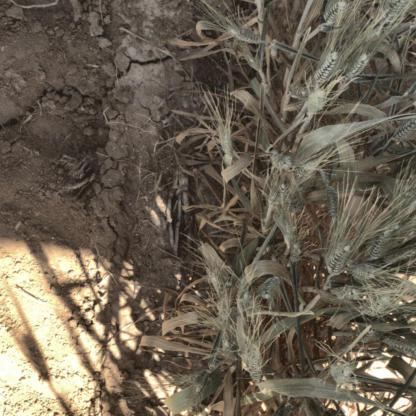whd: (384, 338, 416, 360), (314, 52, 337, 82), (327, 245, 350, 274), (368, 230, 389, 260), (385, 247, 416, 264), (383, 0, 408, 21), (322, 2, 345, 24), (346, 54, 368, 77), (393, 119, 415, 141), (231, 29, 261, 44), (209, 273, 225, 301), (308, 92, 324, 117), (272, 149, 292, 169), (262, 276, 279, 298), (371, 296, 389, 315), (221, 128, 233, 156), (326, 186, 336, 218), (268, 184, 284, 204), (219, 310, 238, 324), (343, 284, 359, 300), (331, 366, 345, 384), (195, 371, 207, 392), (251, 358, 261, 382), (292, 199, 307, 213), (290, 242, 300, 262), (354, 268, 370, 278), (240, 290, 251, 304), (290, 87, 305, 97), (294, 168, 306, 180), (305, 252, 320, 261), (249, 58, 260, 70), (362, 330, 373, 342), (286, 224, 294, 240), (407, 200, 416, 214), (406, 184, 416, 196), (386, 347, 400, 355), (322, 408, 336, 416), (225, 356, 238, 364), (284, 405, 292, 416), (180, 377, 194, 383), (222, 340, 230, 350), (344, 367, 352, 376), (368, 54, 372, 61), (294, 244, 298, 248)
